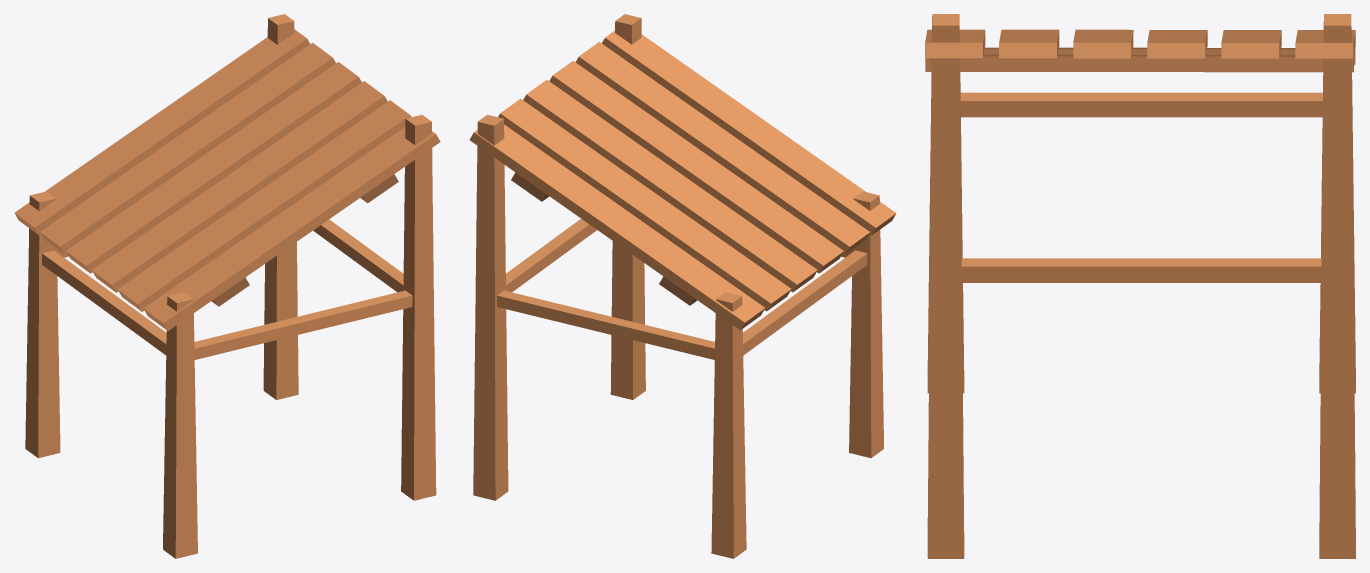
Rendered from structureRoof.fbx.
3 renders of one model, left to right at view 1: azimuth 30°, elevation 25°; view 2: azimuth 150°, elevation 25°; view 3: azimuth 270°, elevation 25°, orthographic. The views are drawn at different scales.
Visible parts, largest first — view 1: structureRoof; view 2: structureRoof; view 3: structureRoof.
Part boxes in pixels (box(x1,y1,x2,y2)): structureRoof: box(14, 14, 440, 558); structureRoof: box(469, 14, 896, 558); structureRoof: box(925, 14, 1355, 558).
Bounding box in the file's own units: 21.31 × 27.38 × 20.12.
